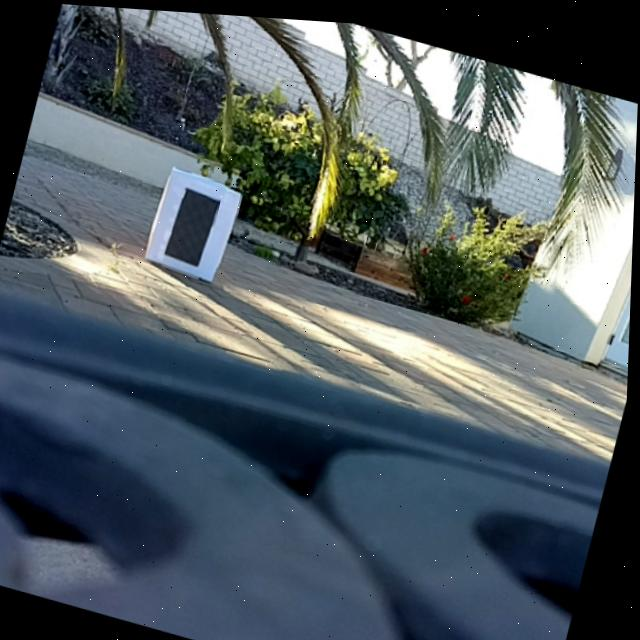led: (167, 183, 220, 266)
